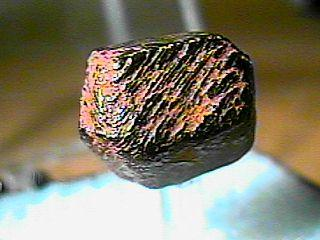magnetite: (103, 52, 257, 189), (81, 36, 249, 154)
